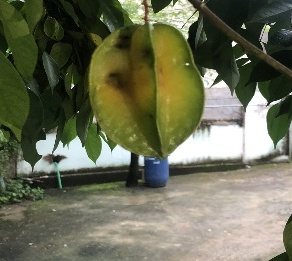Khe: (86, 22, 209, 159)
